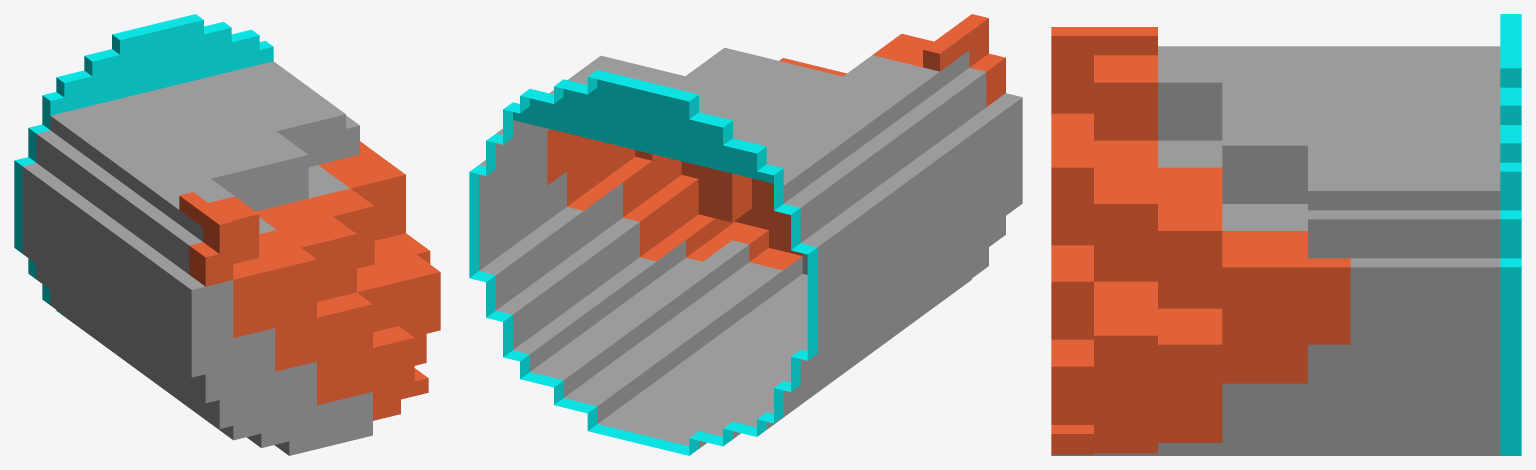
Rendered from Mine4-5.obj.
The picture shows the model from 3 angles, left to right: view 1: azimuth 30°, elevation 25°; view 2: azimuth 150°, elevation 25°; view 3: azimuth 270°, elevation 25°; orthographic projection. The views are drawn at different scales.
Size of the model in its own units: 2 by 2 by 2.2.
